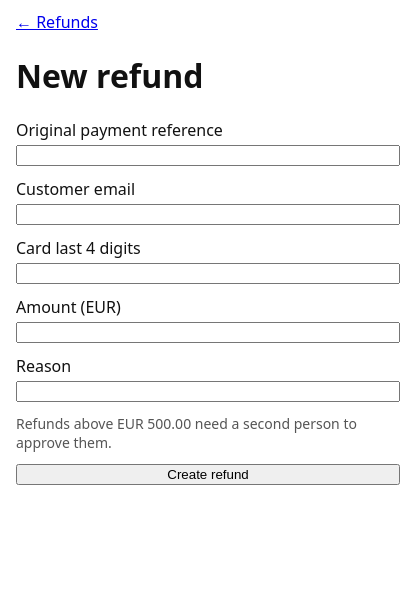
it: New refund form › shows the server refusal (e.g. 403 for a viewer)
The width and height of the screenshot is (417, 590).
Type "pay_1001" into the field labelled "Original payment reference" at (208, 155), box x1=16 y1=145 x2=400 y2=166
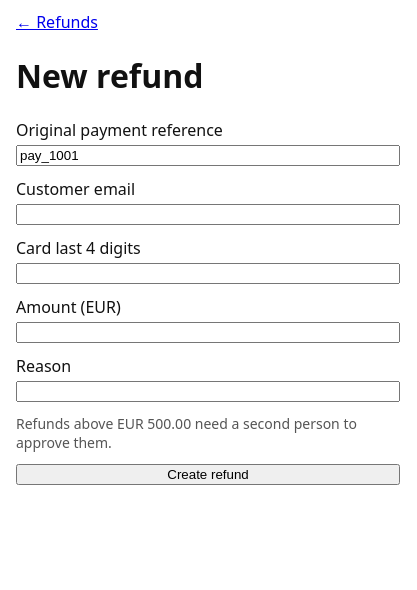
Type "jane.doe@example.com" into the field labelled "Customer email" at (208, 214), box x1=16 y1=204 x2=400 y2=225
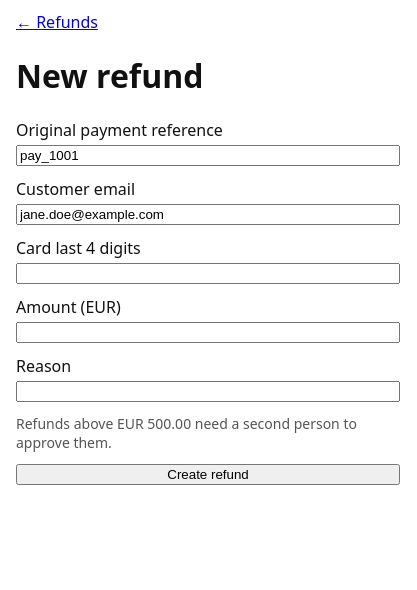
Type "4242" into the field labelled "Card last 4 digits" at (208, 273), box x1=16 y1=263 x2=400 y2=284
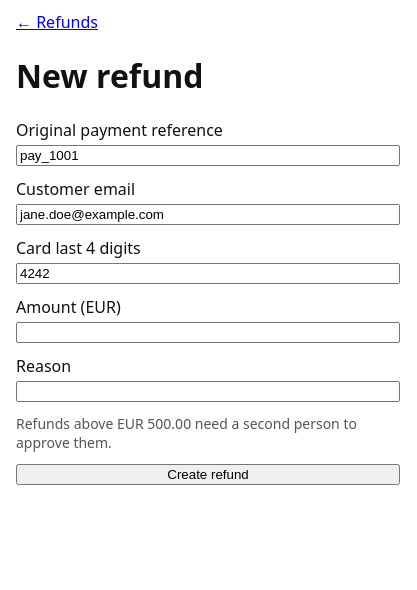
Type "10" into the field labelled "Amount (EUR)" at (208, 332), box x1=16 y1=322 x2=400 y2=343
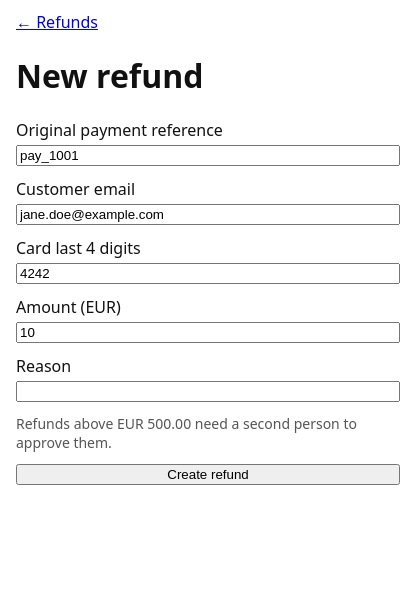
Type "x" into the field labelled "Reason" at (208, 391), box x1=16 y1=381 x2=400 y2=402
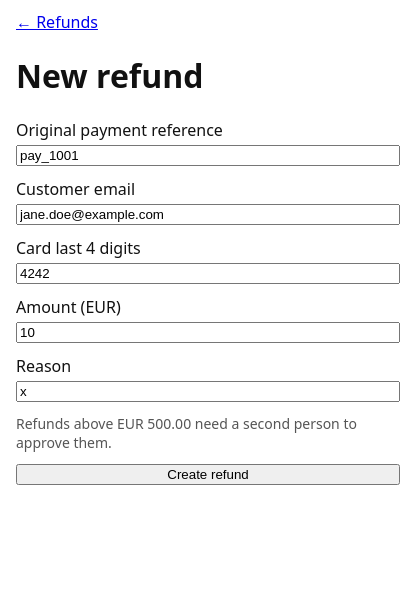
Click the button "Create refund" at (208, 474), box x1=16 y1=464 x2=400 y2=485
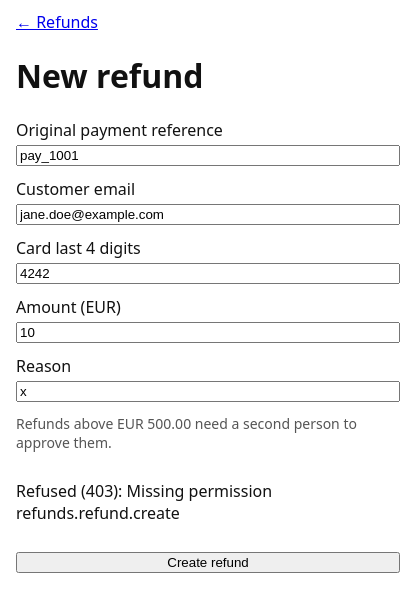
Check: the message shows "Missing permission refunds.refund.create", box x1=16 y1=480 x2=272 y2=524
